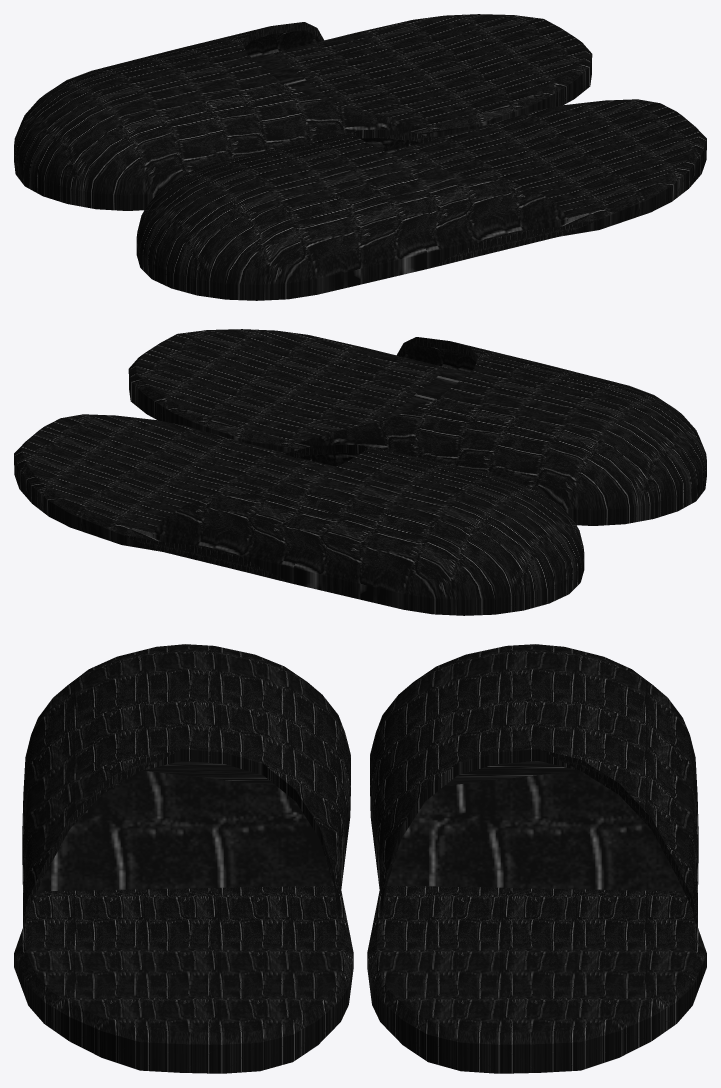
File: SM_Slipper_1.fbx
The picture shows the model from 3 angles, top to bottom: view 1: azimuth 30°, elevation 25°; view 2: azimuth 150°, elevation 25°; view 3: azimuth 270°, elevation 25°; orthographic projection. The views are drawn at different scales.
Parts seen in each view (by area): view 1: SM_Slipper_1; view 2: SM_Slipper_1; view 3: SM_Slipper_1.
Boxes of the visible parts, x1,y1,x2,y2 form: SM_Slipper_1: (14, 14, 706, 300); SM_Slipper_1: (14, 329, 706, 615); SM_Slipper_1: (14, 644, 706, 1073).
Bounding box in the file's own units: 0.22 × 0.03 × 0.175.
1 material, 1 textured.
